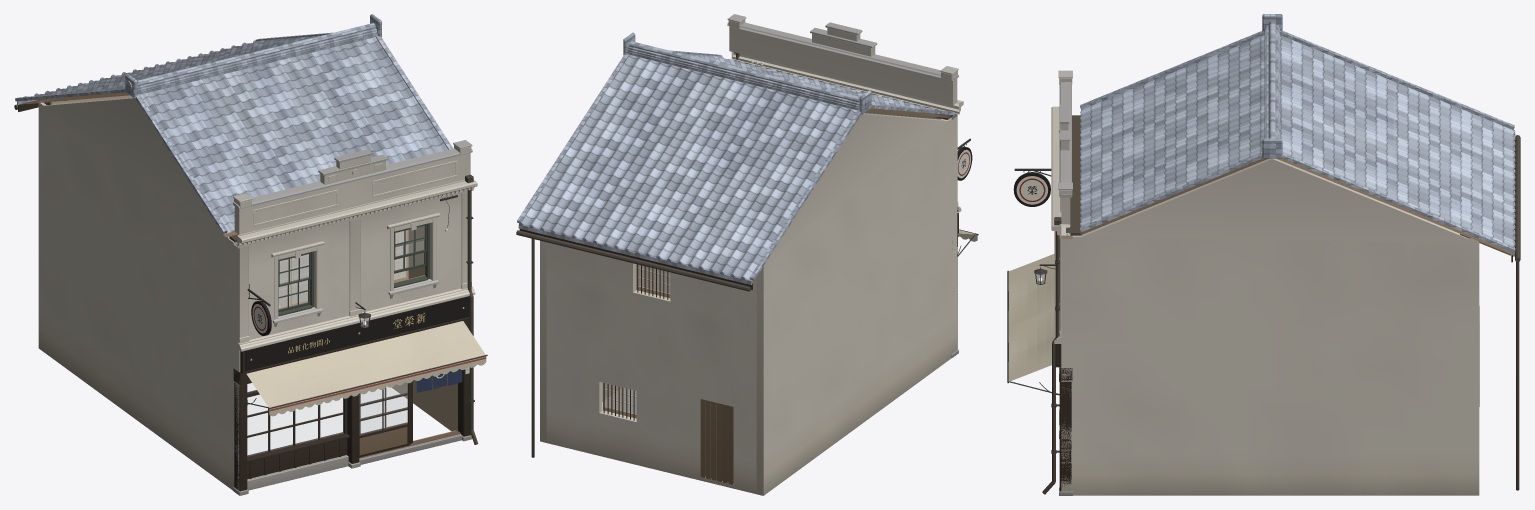
File: exterior-lod0.glb
3 views of the same model, side by side, from view 1: azimuth 30°, elevation 25°; view 2: azimuth 150°, elevation 25°; view 3: azimuth 270°, elevation 25° (orthographic). The views are drawn at different scales.
Visible parts, largest first — view 1: BldgA_LOD0_sideL, BldgA_LOD0_roof, BldgA_LOD0_walls, BldgA_LOD0_shopfront, BldgA_LOD0_trim, BldgA_LOD0_awning, BldgA_LOD0_windows, BldgA_LOD0_signs, BldgA_LOD0_sideR, BldgA_LOD0_services; view 2: BldgA_LOD0_roof, BldgA_LOD0_sideL, BldgA_LOD0_rear, BldgA_LOD0_walls, BldgA_LOD0_trim, BldgA_LOD0_sideR, BldgA_LOD0_signs; view 3: BldgA_LOD0_sideR, BldgA_LOD0_roof, BldgA_LOD0_awning, BldgA_LOD0_trim, BldgA_LOD0_shopfront, BldgA_LOD0_services, BldgA_LOD0_signs.
Part boxes in pixels (x1,y1,x2,y2): BldgA_LOD0_sideL: (38,97,240,490); BldgA_LOD0_roof: (14,14,453,242); BldgA_LOD0_walls: (234,153,470,368); BldgA_LOD0_shopfront: (233,319,472,495); BldgA_LOD0_trim: (233,140,477,351); BldgA_LOD0_awning: (245,320,487,416); BldgA_LOD0_windows: (271,213,440,326); BldgA_LOD0_signs: (240,284,469,373); BldgA_LOD0_sideR: (392,226,457,431); BldgA_LOD0_services: (355,174,478,444); BldgA_LOD0_roof: (516,32,954,457); BldgA_LOD0_sideL: (756,113,957,495); BldgA_LOD0_rear: (546,242,756,494); BldgA_LOD0_walls: (729,26,957,119); BldgA_LOD0_trim: (727,14,963,212); BldgA_LOD0_sideR: (540,240,669,442); BldgA_LOD0_signs: (957,138,972,234); BldgA_LOD0_sideR: (1061,158,1479,495); BldgA_LOD0_roof: (1070,14,1520,490); BldgA_LOD0_awning: (1007,254,1059,395); BldgA_LOD0_trim: (1051,70,1072,343); BldgA_LOD0_shopfront: (1059,344,1073,495); BldgA_LOD0_services: (1034,217,1061,494); BldgA_LOD0_signs: (1013,168,1060,425).
Size of the model in its own units: 6.48 by 8.56 by 11.05.
Materials: 27 (1 with a texture image).
